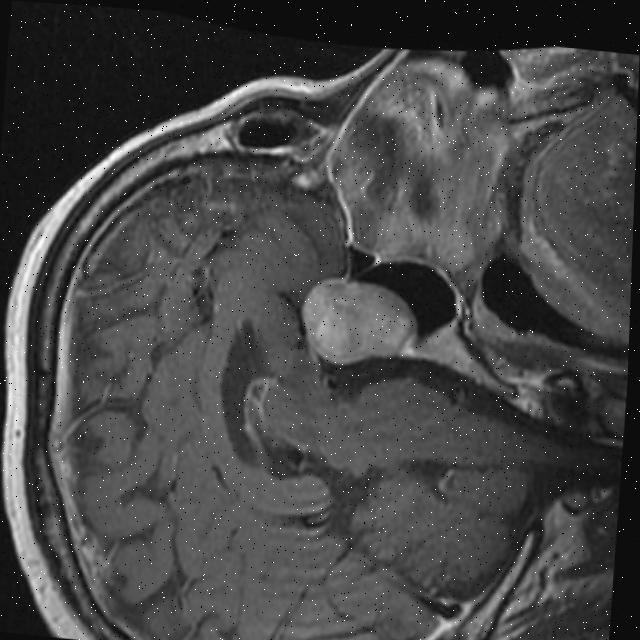Pituitary: (296, 271, 421, 371)
